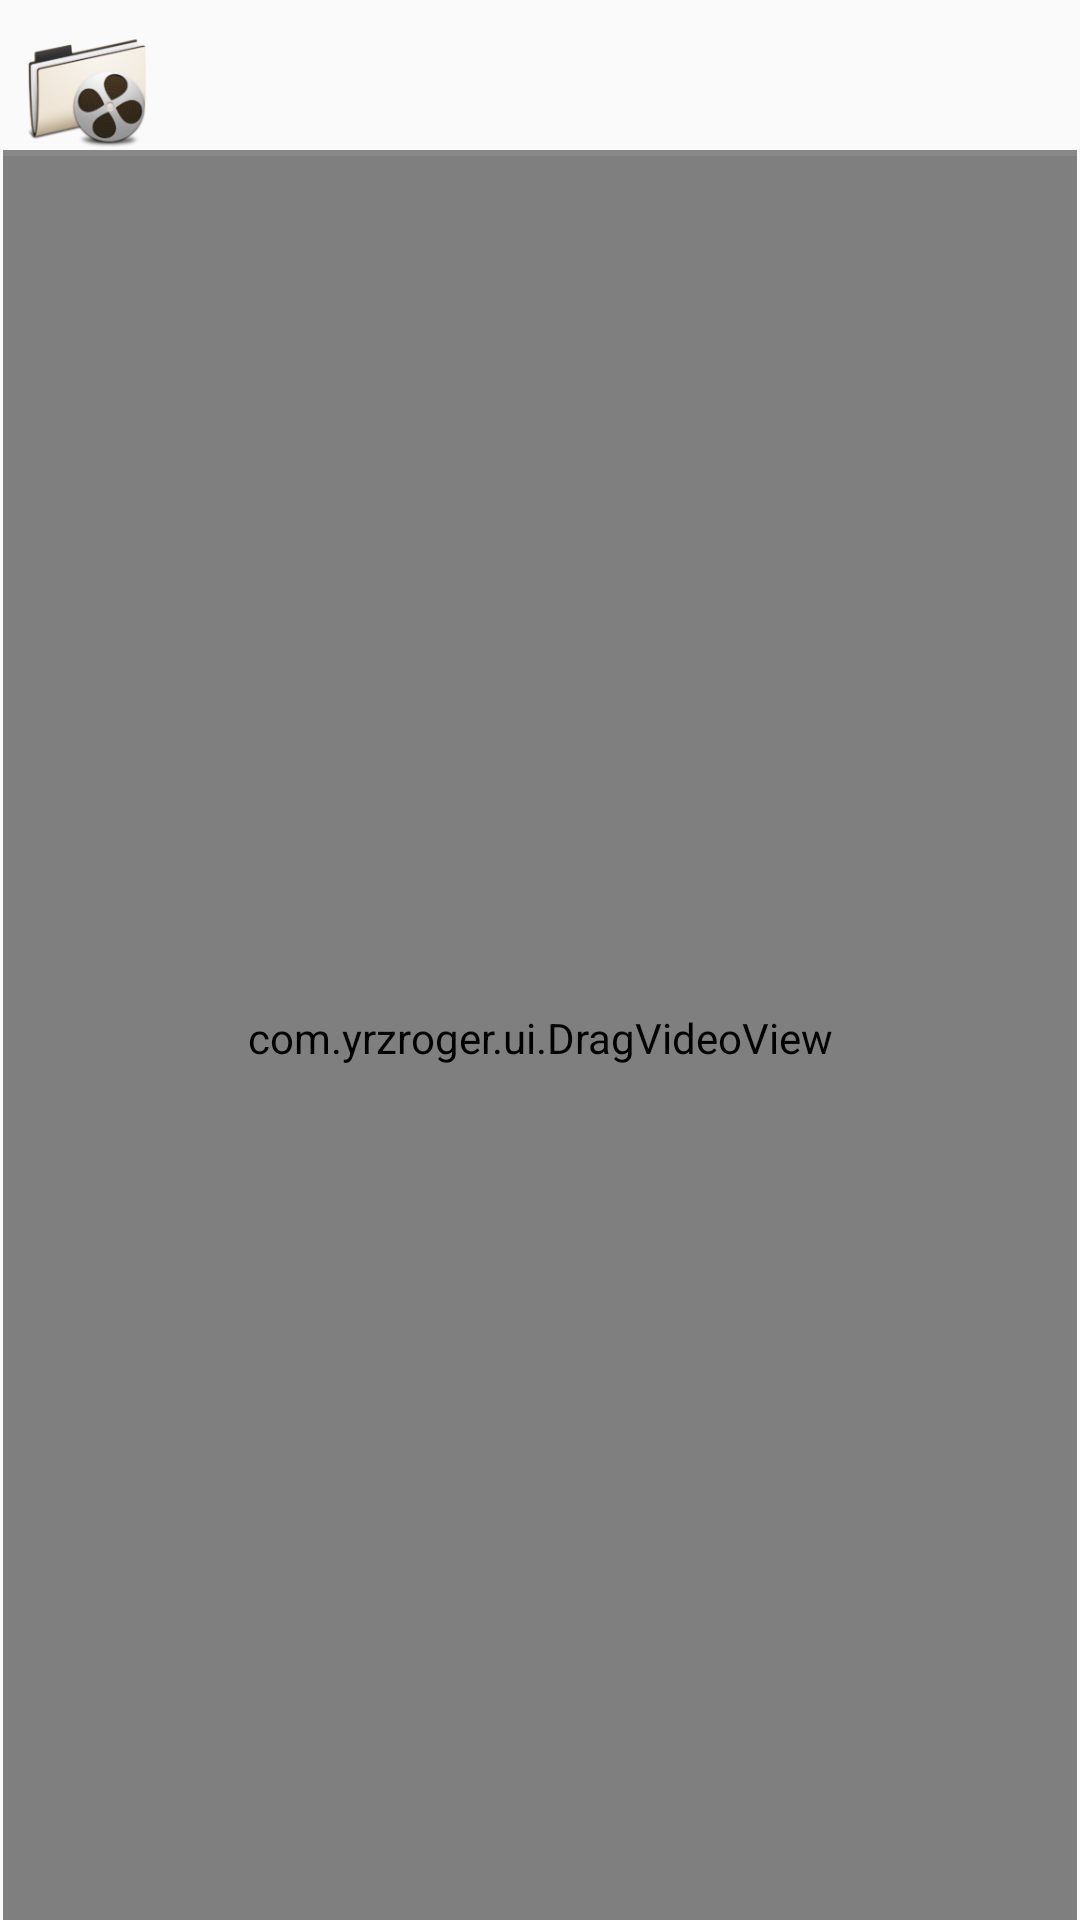

Named icons in this screenshot (1080px x 1920px) and their bounding boxes, (left=x1, top=y1, right=x2, bottom=y2):
videos folder: (left=28, top=39, right=146, bottom=146)
